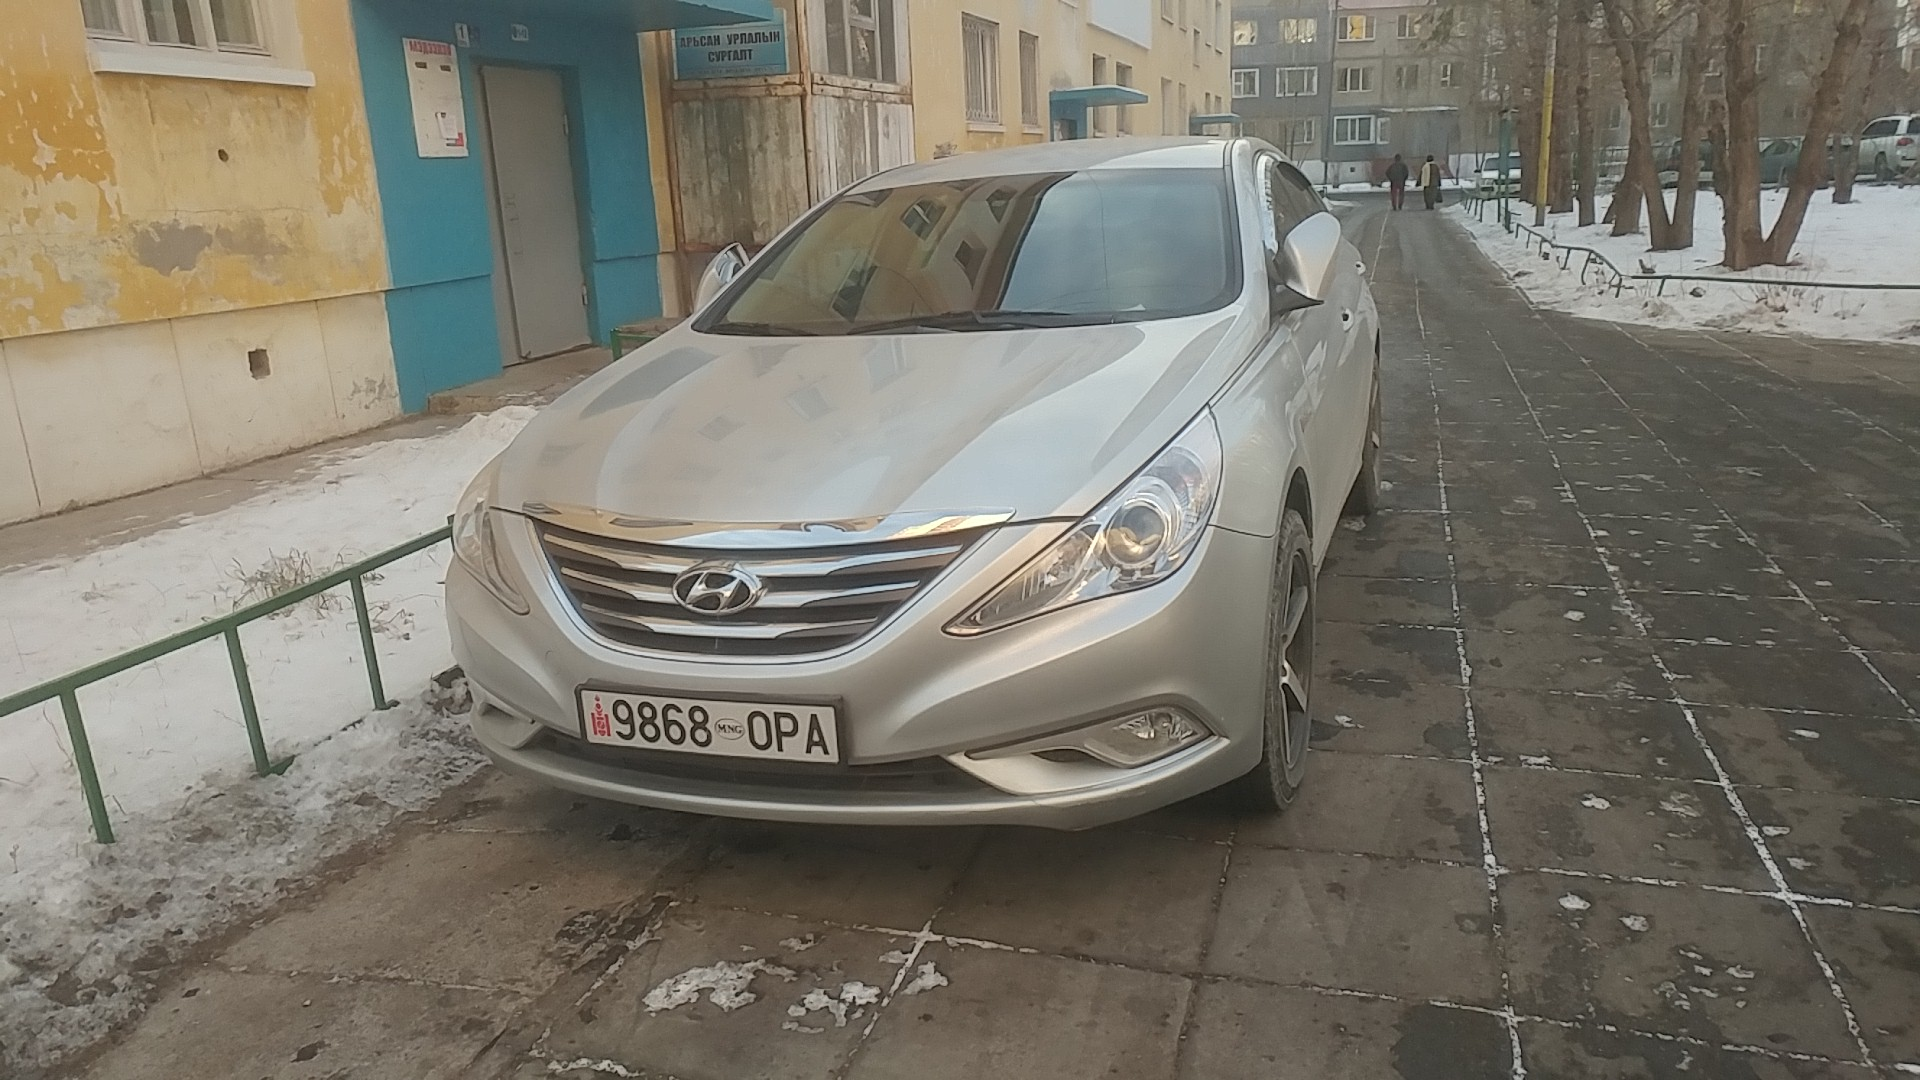6: (660, 701, 689, 746)
8: (686, 704, 713, 747), (637, 700, 661, 744)
9: (747, 708, 773, 750), (612, 699, 637, 741)
a: (803, 711, 833, 757)
plate: (571, 677, 847, 770)
r: (772, 709, 800, 752)
